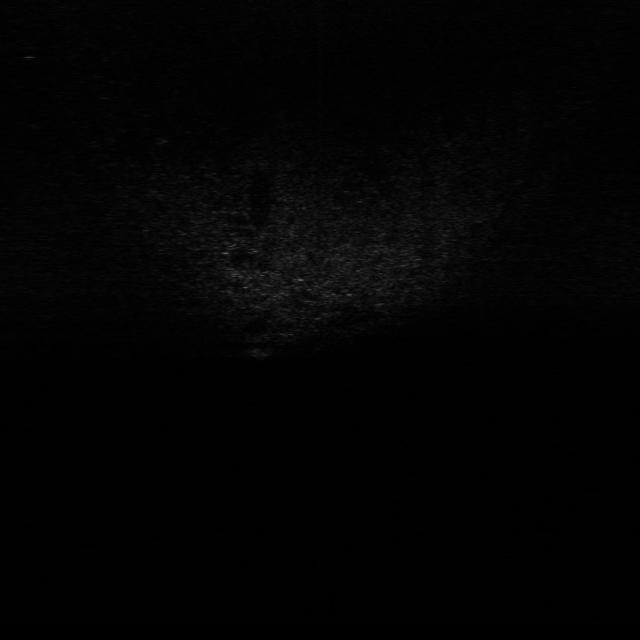cube: (241, 342, 278, 363)
